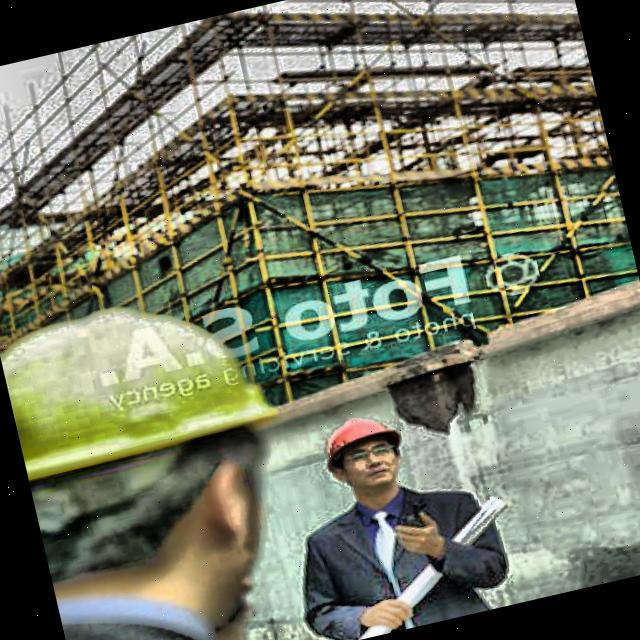helmet: (0, 226, 347, 640), (304, 394, 422, 511)
